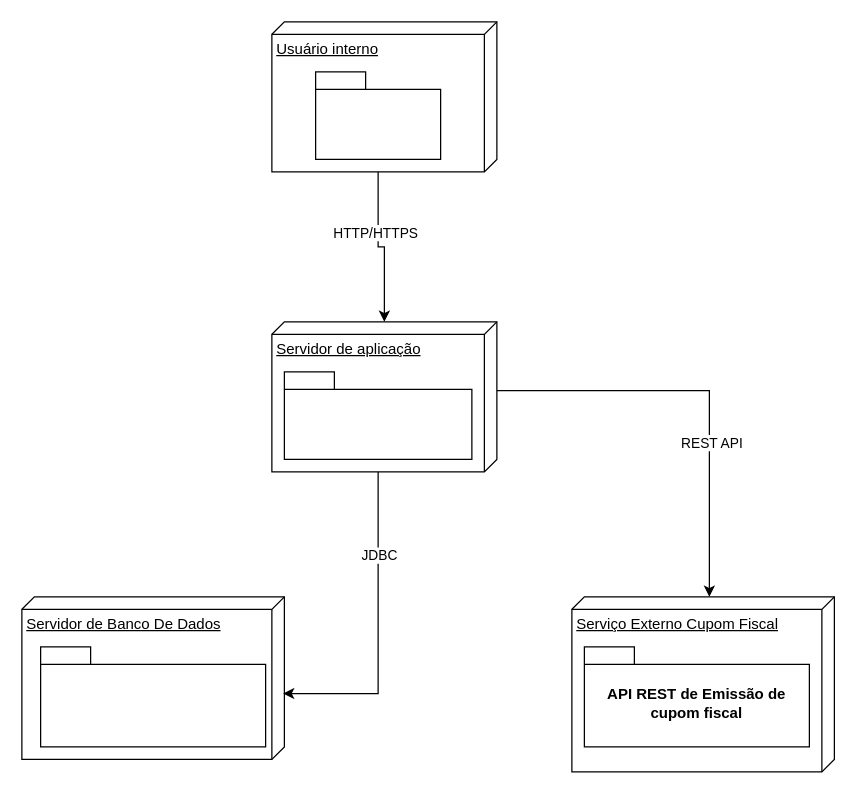
Some shapes in this 856 by 794 pixel diagram are drawn without their labels. The shapes that lost their labels are listed below. From the top down, each one's centre as x and y in pixels, then its label:
At point (377, 115): "nvegador web".
At point (377, 415): "App Server(Serviços de venda, Relatórios, Estoque e Autenticação)".
At point (152, 696): "PostegreSQL(Tabelas:produto, cliente, venda e etc".
